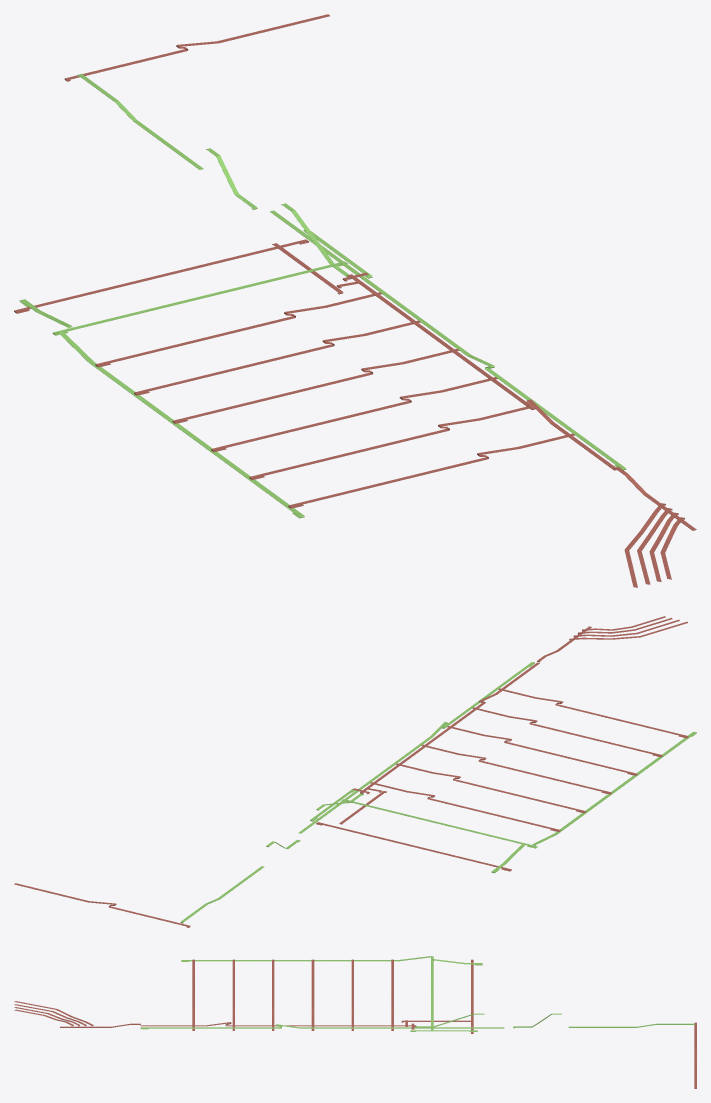
The model's file is Conveyor_Belt_All.glb.
3 renders of one model, top to bottom at view 1: azimuth 30°, elevation 25°; view 2: azimuth 150°, elevation 25°; view 3: azimuth 270°, elevation 25°, orthographic. The views are drawn at different scales.
Visible parts, largest first — view 1: ConveyorBelt Green Right Main, ConveyorBelt Red Right Main, ConveyorBelt_Green_Left_1, ConveyorBelt 00 Main Red 4, ConveyorBelt 00 Main Red 3, ConveyorBelt 00 Main Red 5, ConveyorBelt 00 Main Red 1, ConveyorBelt 00 Main Red 6, ConveyorBelt 00 Main Red 2, ConveyorBelt 00 Main Red 7, ConveyorBelt 00 Main Green 1, ConveyorBelt ShipYard; view 2: ConveyorBelt Green Right Main, ConveyorBelt Red Right Main, ConveyorBelt_Green_Left_1; view 3: ConveyorBelt Green Right Main, ConveyorBelt Red Right Main, ConveyorBelt_Green_Left_1, ConveyorBelt 00 Main Red 4, ConveyorBelt Green To Shipyard.
Boxes of the visible parts, left/top/right/bottom form: ConveyorBelt Green Right Main: left=270, top=210, right=626, bottom=470; ConveyorBelt Red Right Main: left=347, top=274, right=616, bottom=470; ConveyorBelt_Green_Left_1: left=57, top=331, right=304, bottom=518; ConveyorBelt 00 Main Red 4: left=172, top=349, right=458, bottom=423; ConveyorBelt 00 Main Red 3: left=211, top=377, right=497, bottom=451; ConveyorBelt 00 Main Red 5: left=134, top=320, right=420, bottom=395; ConveyorBelt 00 Main Red 1: left=288, top=433, right=574, bottom=508; ConveyorBelt 00 Main Red 6: left=95, top=292, right=381, bottom=367; ConveyorBelt 00 Main Red 2: left=249, top=406, right=528, bottom=479; ConveyorBelt 00 Main Red 7: left=14, top=239, right=308, bottom=313; ConveyorBelt 00 Main Green 1: left=52, top=261, right=347, bottom=335; ConveyorBelt ShipYard: left=64, top=14, right=330, bottom=81; ConveyorBelt Green Right Main: left=298, top=662, right=534, bottom=833; ConveyorBelt Red Right Main: left=360, top=662, right=539, bottom=793; ConveyorBelt_Green_Left_1: left=532, top=731, right=696, bottom=845; ConveyorBelt Green Right Main: left=140, top=1024, right=504, bottom=1029; ConveyorBelt Red Right Main: left=141, top=1022, right=416, bottom=1026; ConveyorBelt_Green_Left_1: left=181, top=956, right=431, bottom=961; ConveyorBelt 00 Main Red 4: left=311, top=959, right=314, bottom=1030; ConveyorBelt Green To Shipyard: left=568, top=1023, right=694, bottom=1027.
Bounding box in the file's own units: 18.8 × 1.1 × 40.62.
